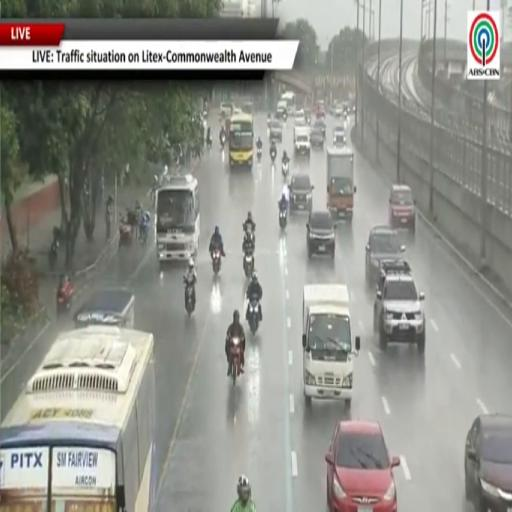bus: (0, 327, 158, 511), (156, 174, 200, 266), (229, 114, 253, 168), (281, 91, 295, 116)
car: (325, 421, 400, 511), (373, 261, 425, 354), (465, 414, 511, 511), (75, 288, 134, 328), (366, 227, 405, 284), (307, 210, 335, 258), (389, 184, 416, 232), (288, 173, 314, 212), (310, 124, 324, 148), (269, 120, 282, 141), (333, 126, 346, 147), (313, 118, 326, 138), (276, 101, 287, 119), (330, 103, 344, 117), (220, 103, 233, 118), (294, 109, 306, 124), (315, 101, 325, 117), (242, 102, 253, 115), (304, 107, 311, 123)
motorcycle: (56, 280, 74, 316), (230, 338, 241, 386), (184, 278, 195, 316), (248, 298, 259, 334), (119, 223, 133, 247), (48, 240, 58, 270), (243, 251, 254, 278), (212, 249, 221, 275), (140, 223, 148, 245), (279, 208, 287, 229), (282, 162, 289, 178), (270, 150, 276, 164), (206, 137, 212, 150), (220, 135, 225, 149), (257, 149, 261, 162), (283, 111, 287, 122), (203, 110, 208, 118), (267, 115, 270, 127)
truck: (302, 284, 360, 407), (327, 147, 356, 221), (293, 125, 311, 158)
